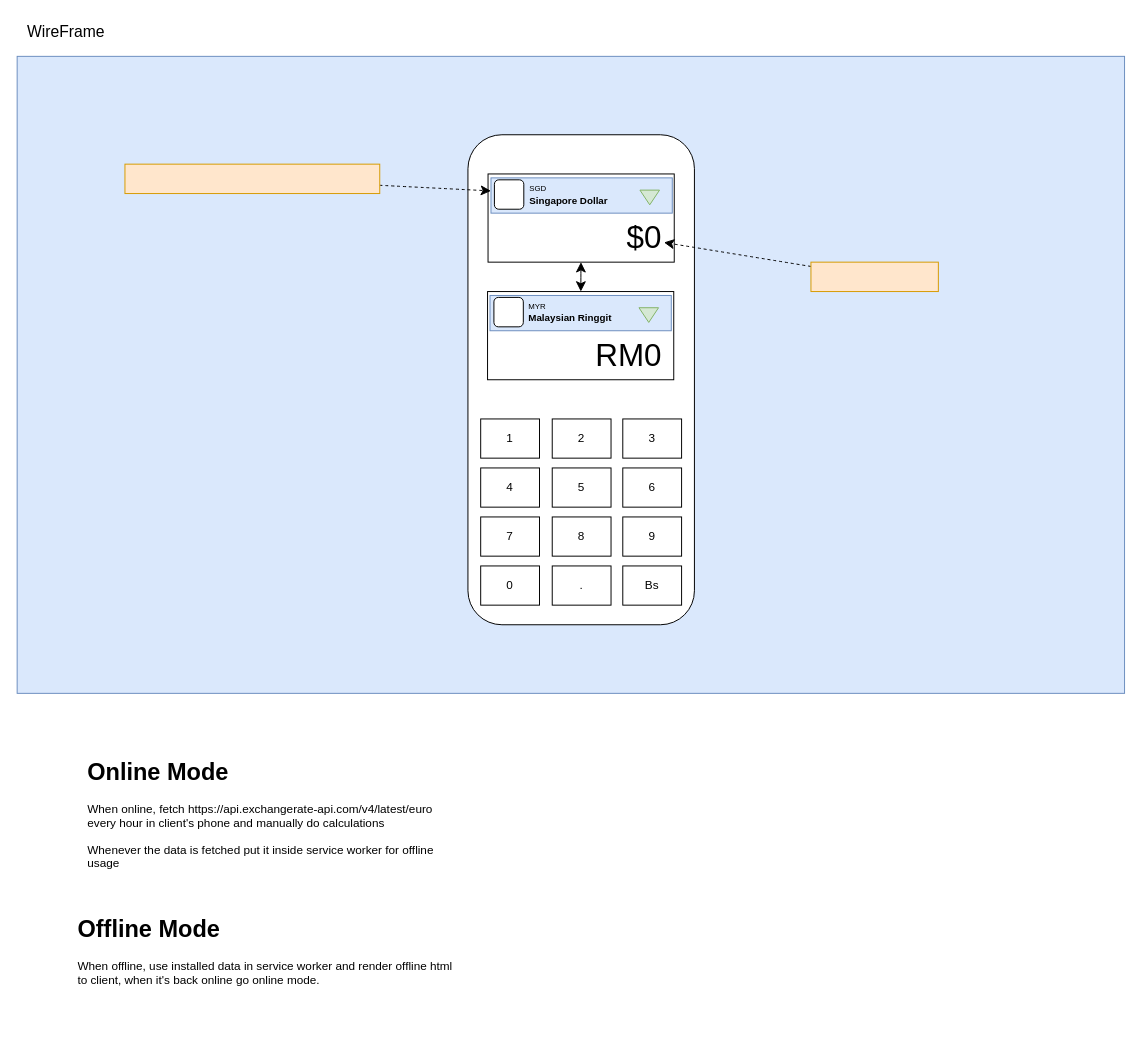
Image size: 1142x1046. Some labels were removed from this diagram. The shapes that lost their labels are listed below. From the top down, each one's box as (x1, y1, x2, y2) in pixels, then its label:
(124, 163, 380, 194): Dropdown to choose currency
(810, 261, 938, 292): Click to focus
